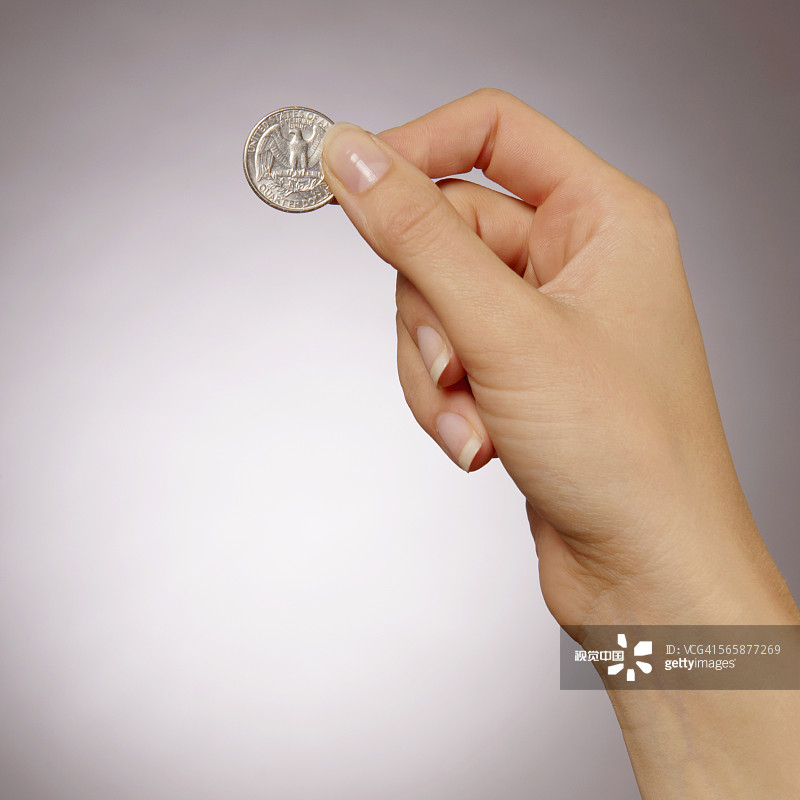no-phone: (235, 70, 769, 635)
